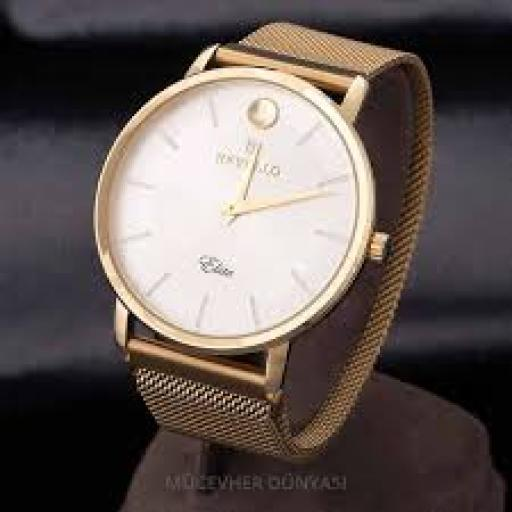KolSaati: (70, 20, 442, 484)
